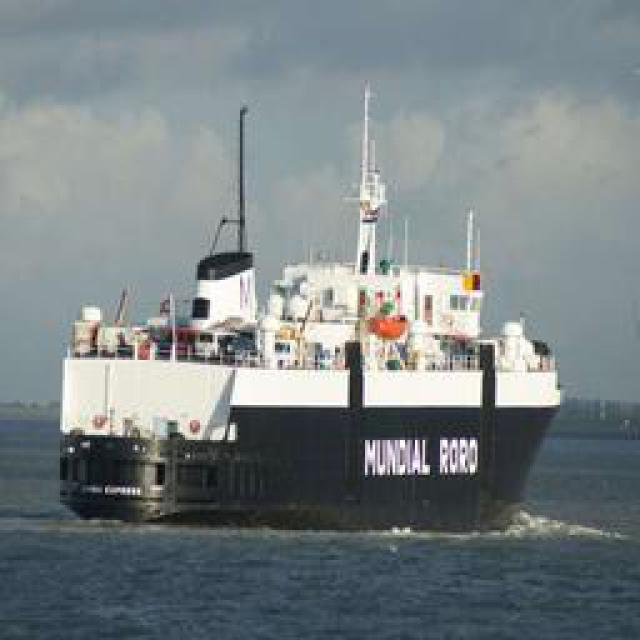Ship: (58, 62, 563, 525)
